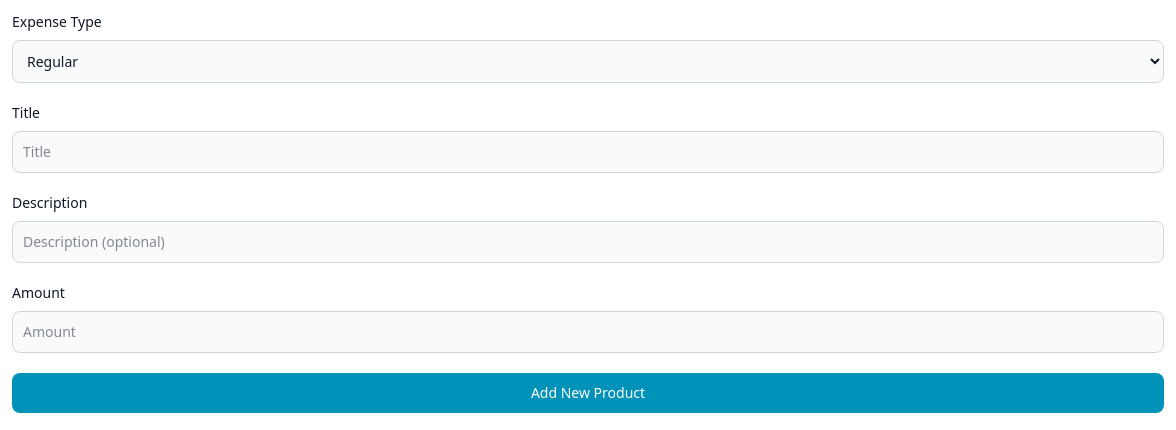
Scenario: NewExpenseForm › displays travel expense type selector when ExpenseType is TRAVEL
// Select "Travel" expense type
Select "Travel" in the dropdown labelled "Expense Type" at point(588, 62), box [12,40,1164,83]
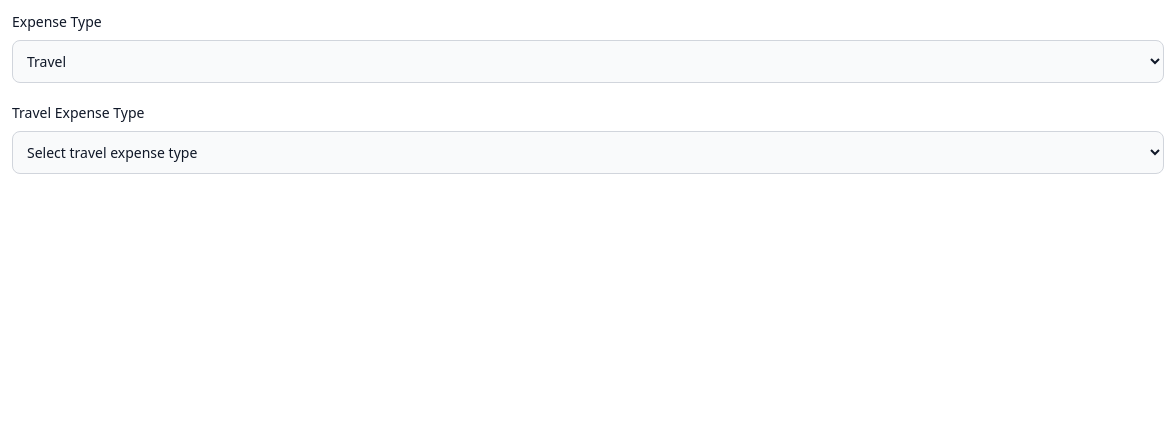
Check: the dropdown labelled "Travel Expense Type" is shown, box [12,131,1164,174]
